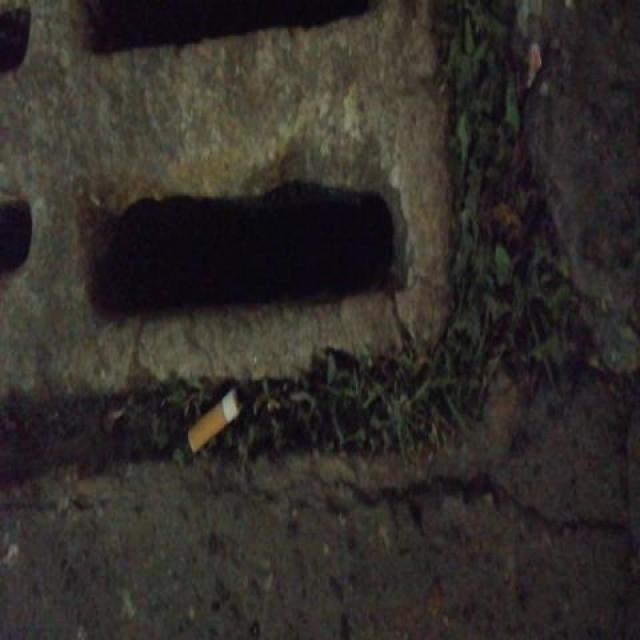non-organic waste: (182, 382, 246, 457)
